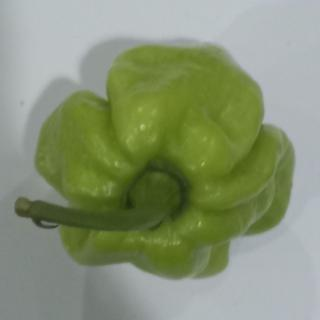Grade-B: (29, 36, 304, 280)
